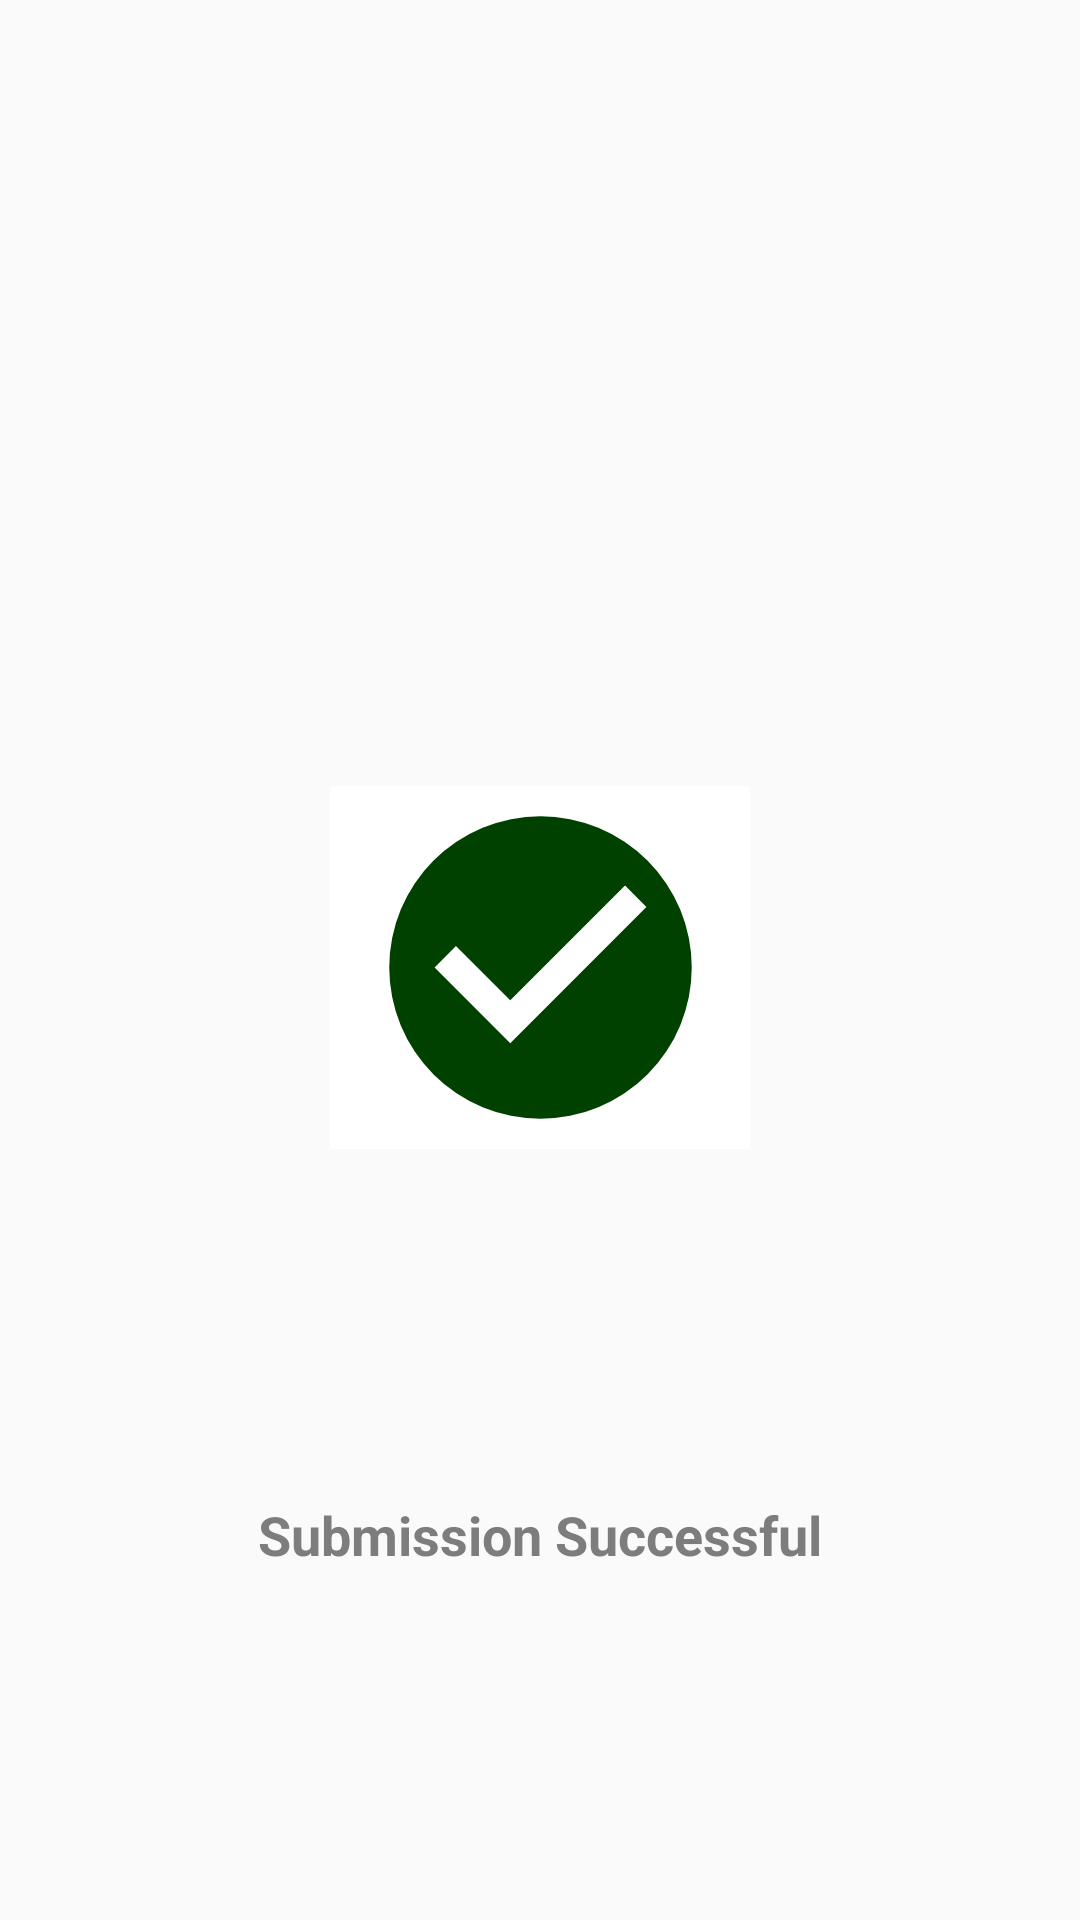

Icons on this 1080 x 1920 Android screen, each with its box as (x1, y1, x2, y2):
checkbox marked circle: (389, 816, 692, 1119)
